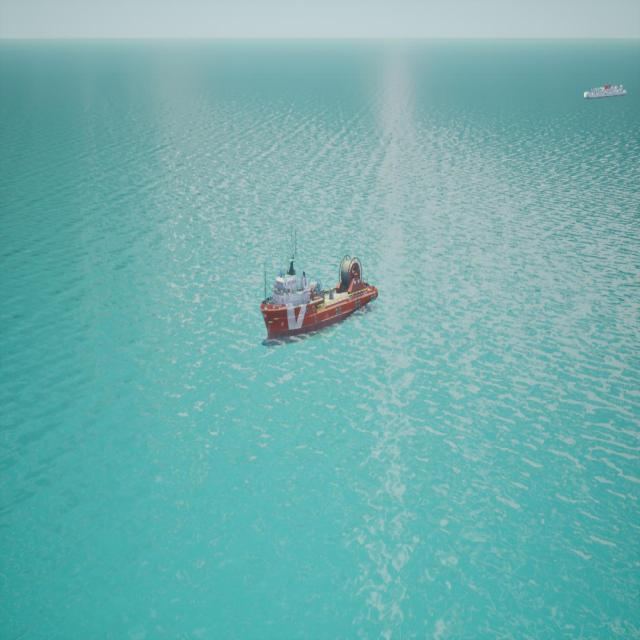tug boat: (260, 257, 379, 345)
